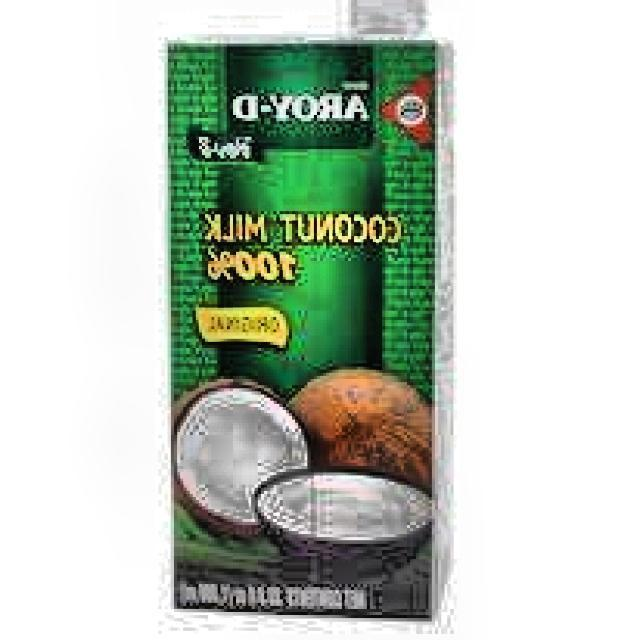cardboard: (168, 31, 456, 618)
